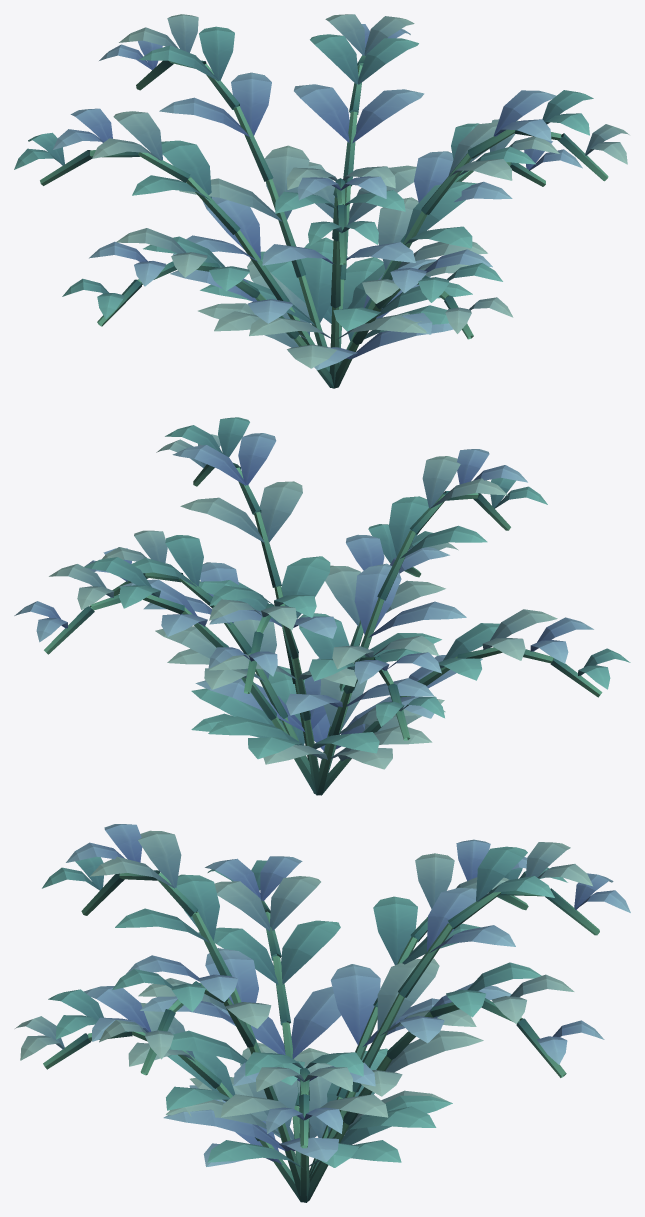
The model's file is SM_SilverbankFern.fbx.
3 renders of one model, top to bottom at view 1: azimuth 30°, elevation 25°; view 2: azimuth 150°, elevation 25°; view 3: azimuth 270°, elevation 25°, orthographic. The views are drawn at different scales.
Visible parts, largest first — view 1: SM_SilverbankFern; view 2: SM_SilverbankFern; view 3: SM_SilverbankFern.
Boxes of the visible parts, left/top/right/bottom form: SM_SilverbankFern: left=14, top=14, right=629, bottom=388; SM_SilverbankFern: left=14, top=417, right=630, bottom=795; SM_SilverbankFern: left=15, top=824, right=630, bottom=1202.
Bounding box in the file's own units: 91.36 × 86.89 × 50.
Materials: 1 (1 with a texture image).
